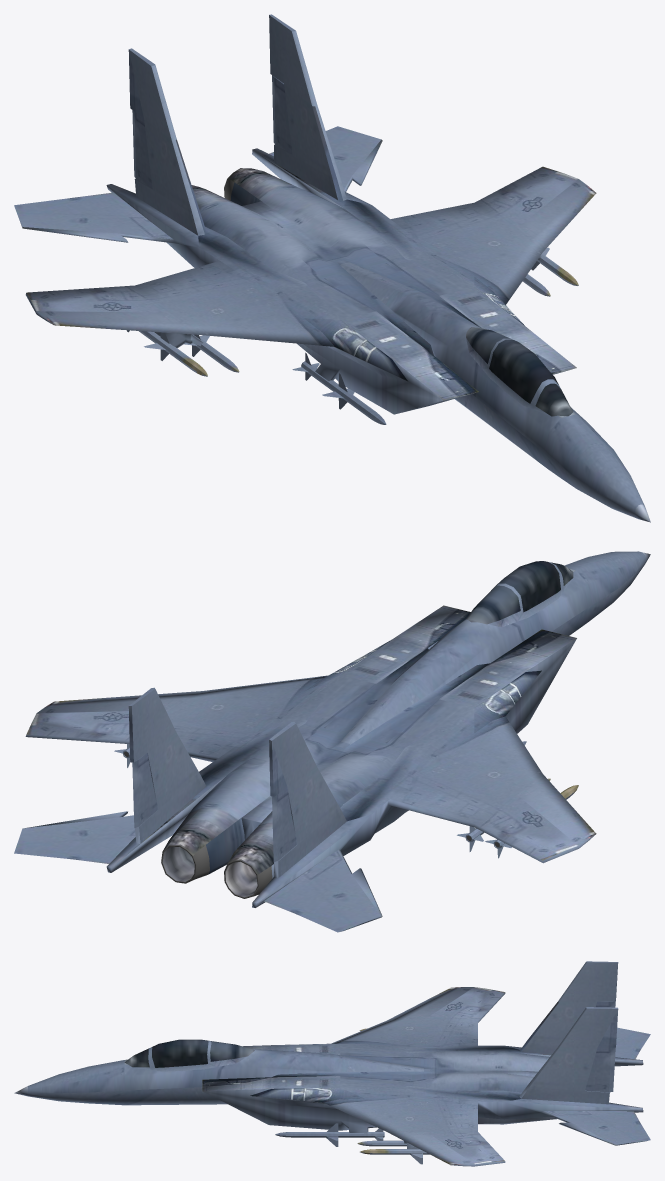
3 renders of one model, top to bottom at view 1: azimuth 30°, elevation 25°; view 2: azimuth 150°, elevation 25°; view 3: azimuth 270°, elevation 25°, orthographic. The views are drawn at different scales.
Visible parts, largest first — view 1: Circle.001_3; view 2: Circle.001_3; view 3: Circle.001_3.
Boxes of the visible parts, x1=… form: Circle.001_3: x1=14, y1=14, x2=650, y2=522; Circle.001_3: x1=14, y1=551, x2=650, y2=932; Circle.001_3: x1=14, y1=961, x2=650, y2=1166.
Size of the model in its own units: 14.46 by 5.29 by 21.94.
Materials: 4 (2 with a texture image).
